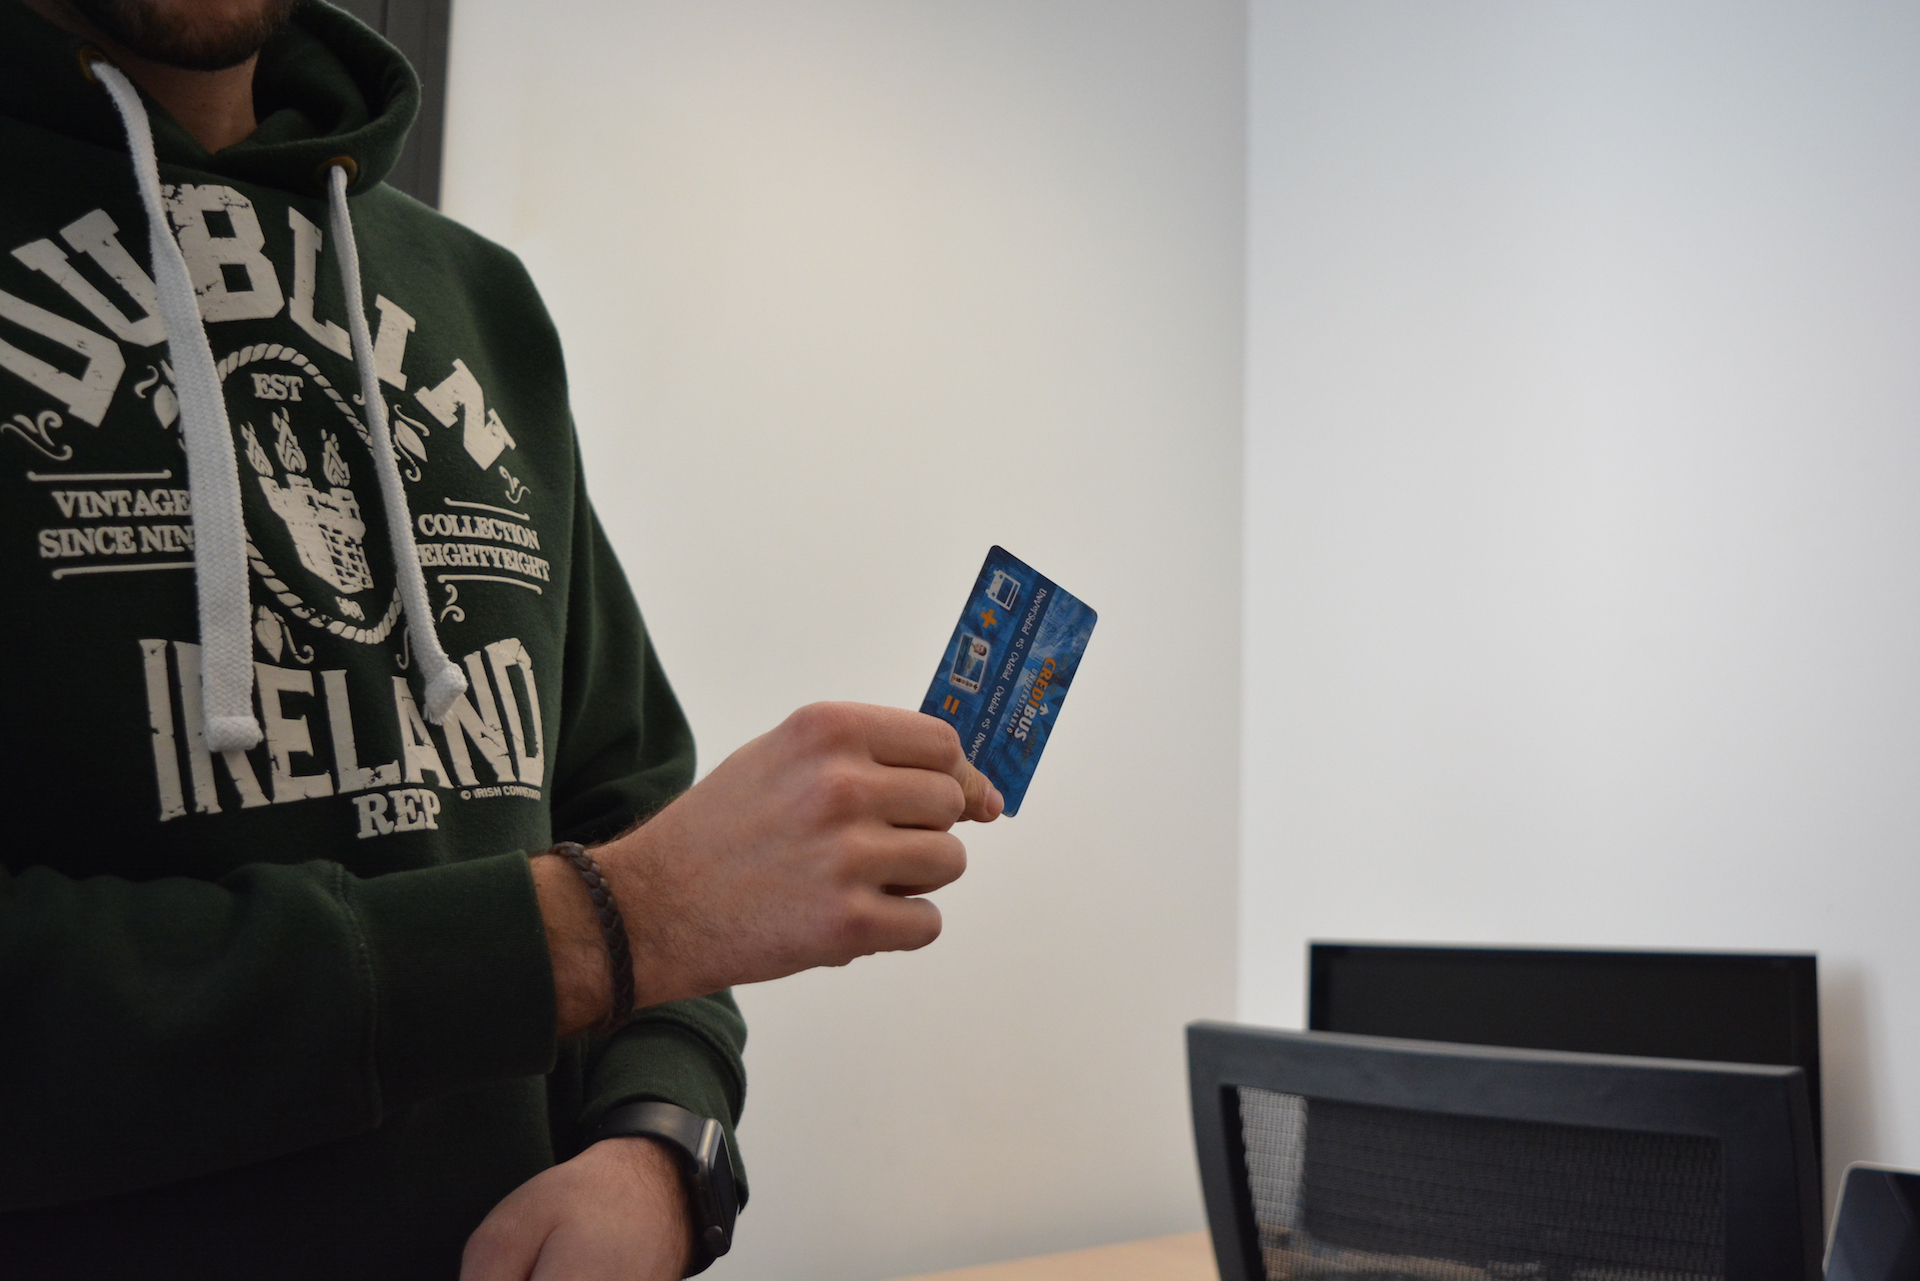tarjeta: (916, 543, 1099, 821)
